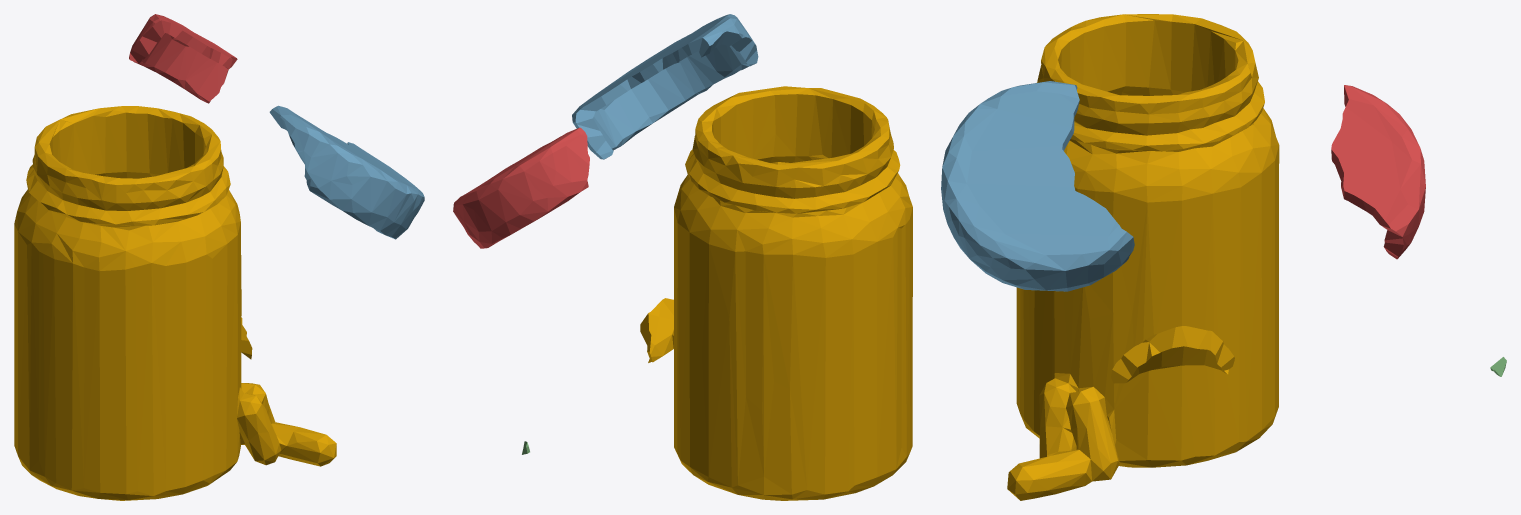
Rendered from fractured_15_4pcs_transformed.glb.
3 views of the same model, side by side, from view 1: azimuth 30°, elevation 25°; view 2: azimuth 150°, elevation 25°; view 3: azimuth 270°, elevation 25° (orthographic). The views are drawn at different scales.
Visible parts, largest first — view 1: piece_0.obj, piece_2.obj, piece_1.obj; view 2: piece_0.obj, piece_2.obj, piece_1.obj; view 3: piece_0.obj, piece_2.obj, piece_1.obj.
Part boxes in pixels (box(x1,y1,x2,y2)): piece_0.obj: box(14, 106, 336, 500); piece_2.obj: box(269, 105, 424, 239); piece_1.obj: box(129, 14, 237, 103); piece_0.obj: box(640, 86, 912, 500); piece_2.obj: box(572, 14, 758, 159); piece_1.obj: box(453, 127, 589, 248); piece_0.obj: box(1007, 14, 1279, 500); piece_2.obj: box(941, 81, 1134, 291); piece_1.obj: box(1331, 85, 1425, 259).
Bounding box in the file's own units: 1 × 0.9918 × 1.26.
